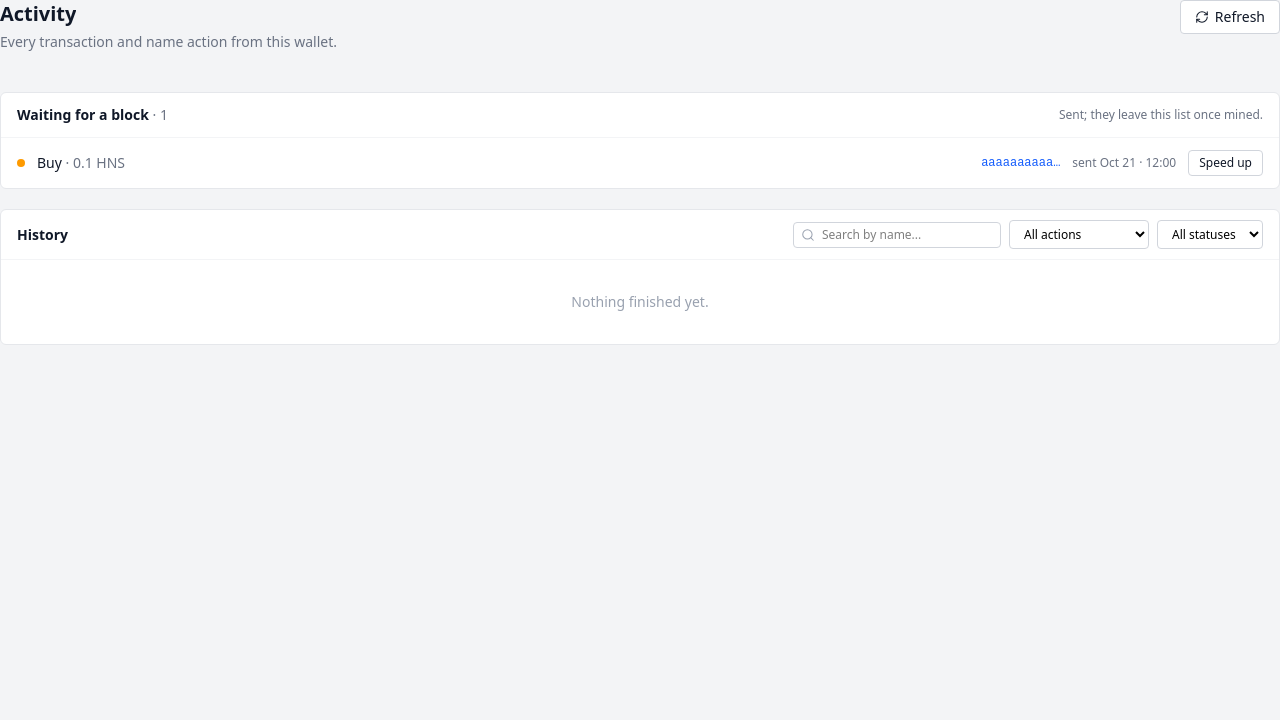
Test: the Speed up form (R11, R16) › a purchase's form says the price and the purchase are unchanged
Click the button with test id "speed-up-button" at (1226, 163), box x1=1188 y1=150 x2=1263 y2=176
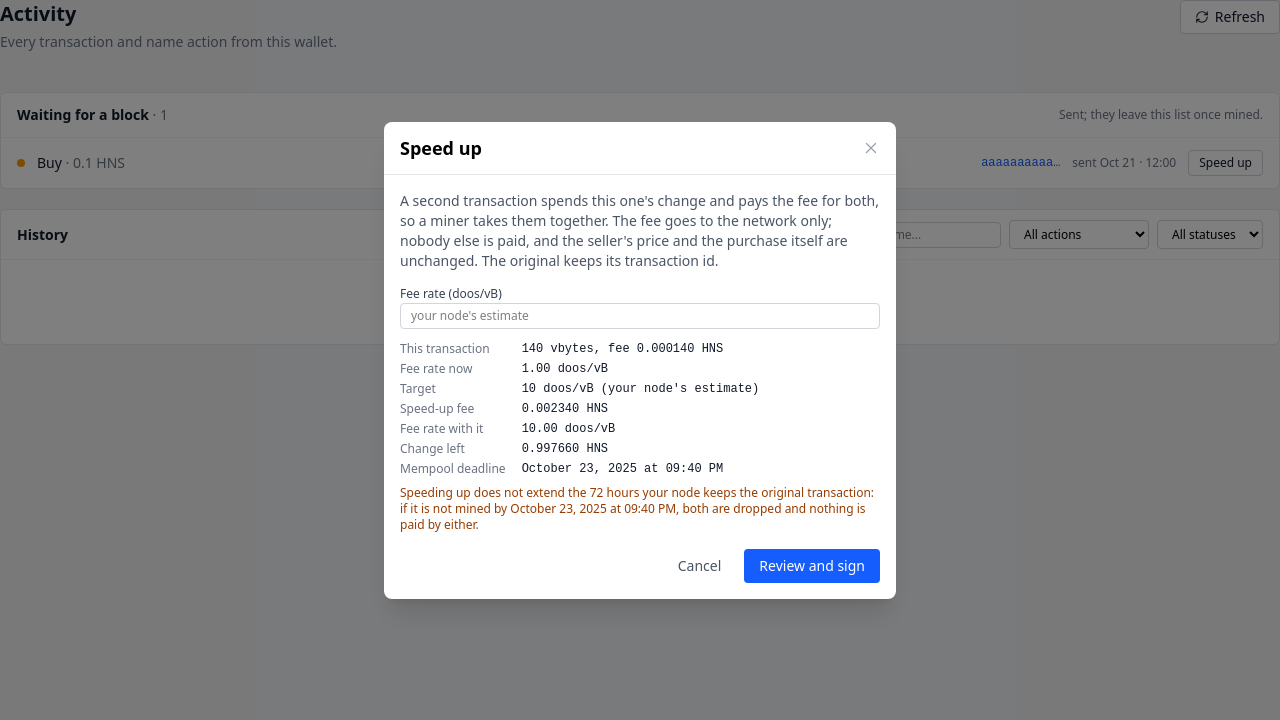
Now the element with test id "speed-up-dialog" shows "nobody else is paid, and the seller's price and the purchase itself are unchanged.", box x1=400 y1=190 x2=880 y2=582
